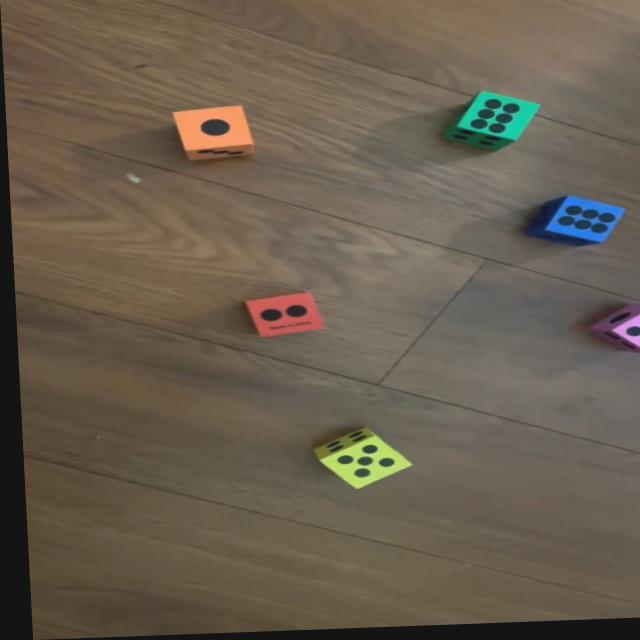cube: (522, 200, 623, 251), (241, 291, 321, 341)
